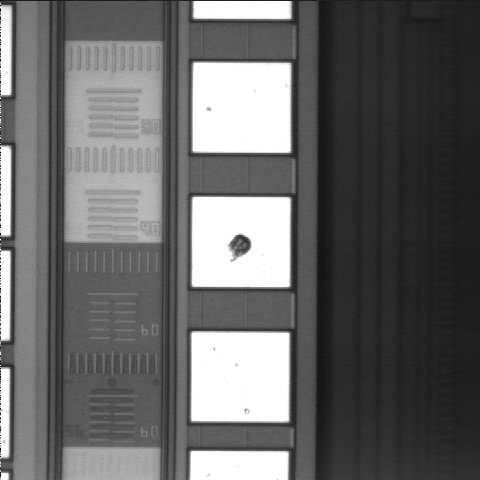pad: (193, 63, 291, 153), (192, 197, 290, 287), (191, 332, 289, 422)
